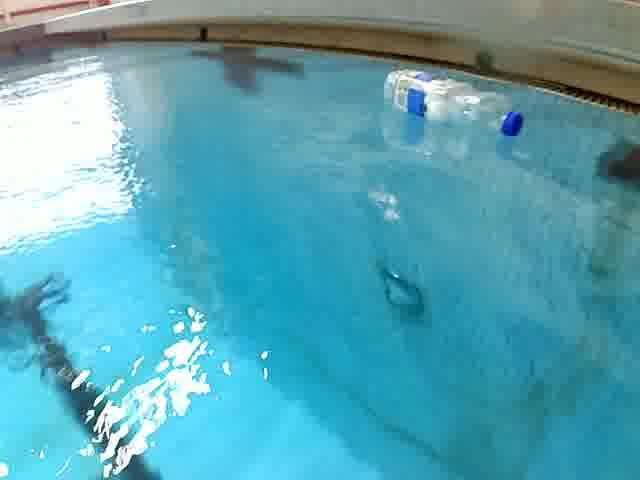Bottle: (368, 51, 545, 171)
